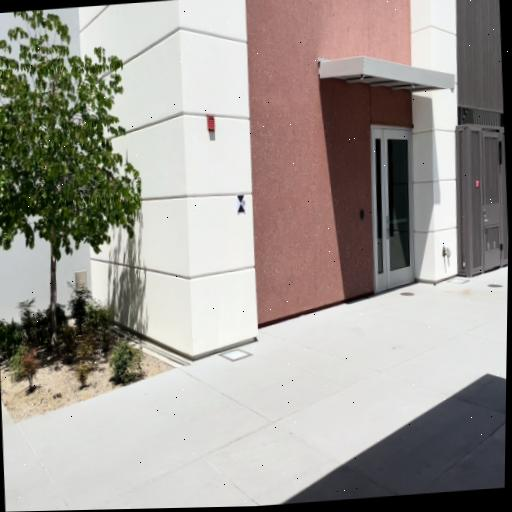target9: (236, 193, 246, 214)
